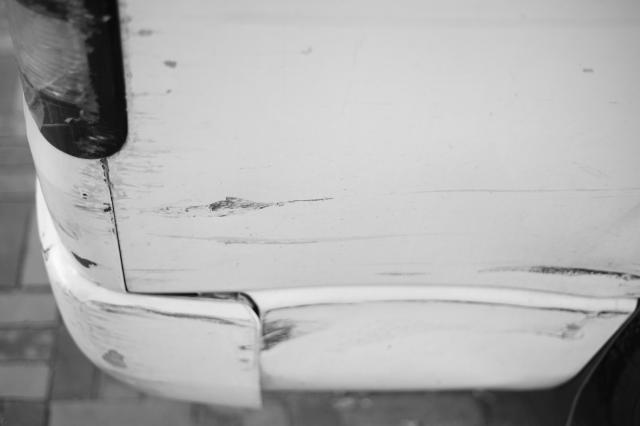Bumper: (27, 149, 640, 374)
Fender: (123, 3, 304, 145)
